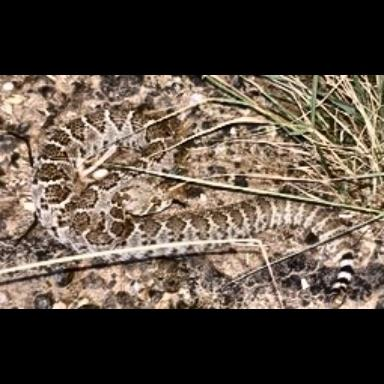snake: (29, 102, 356, 297)
